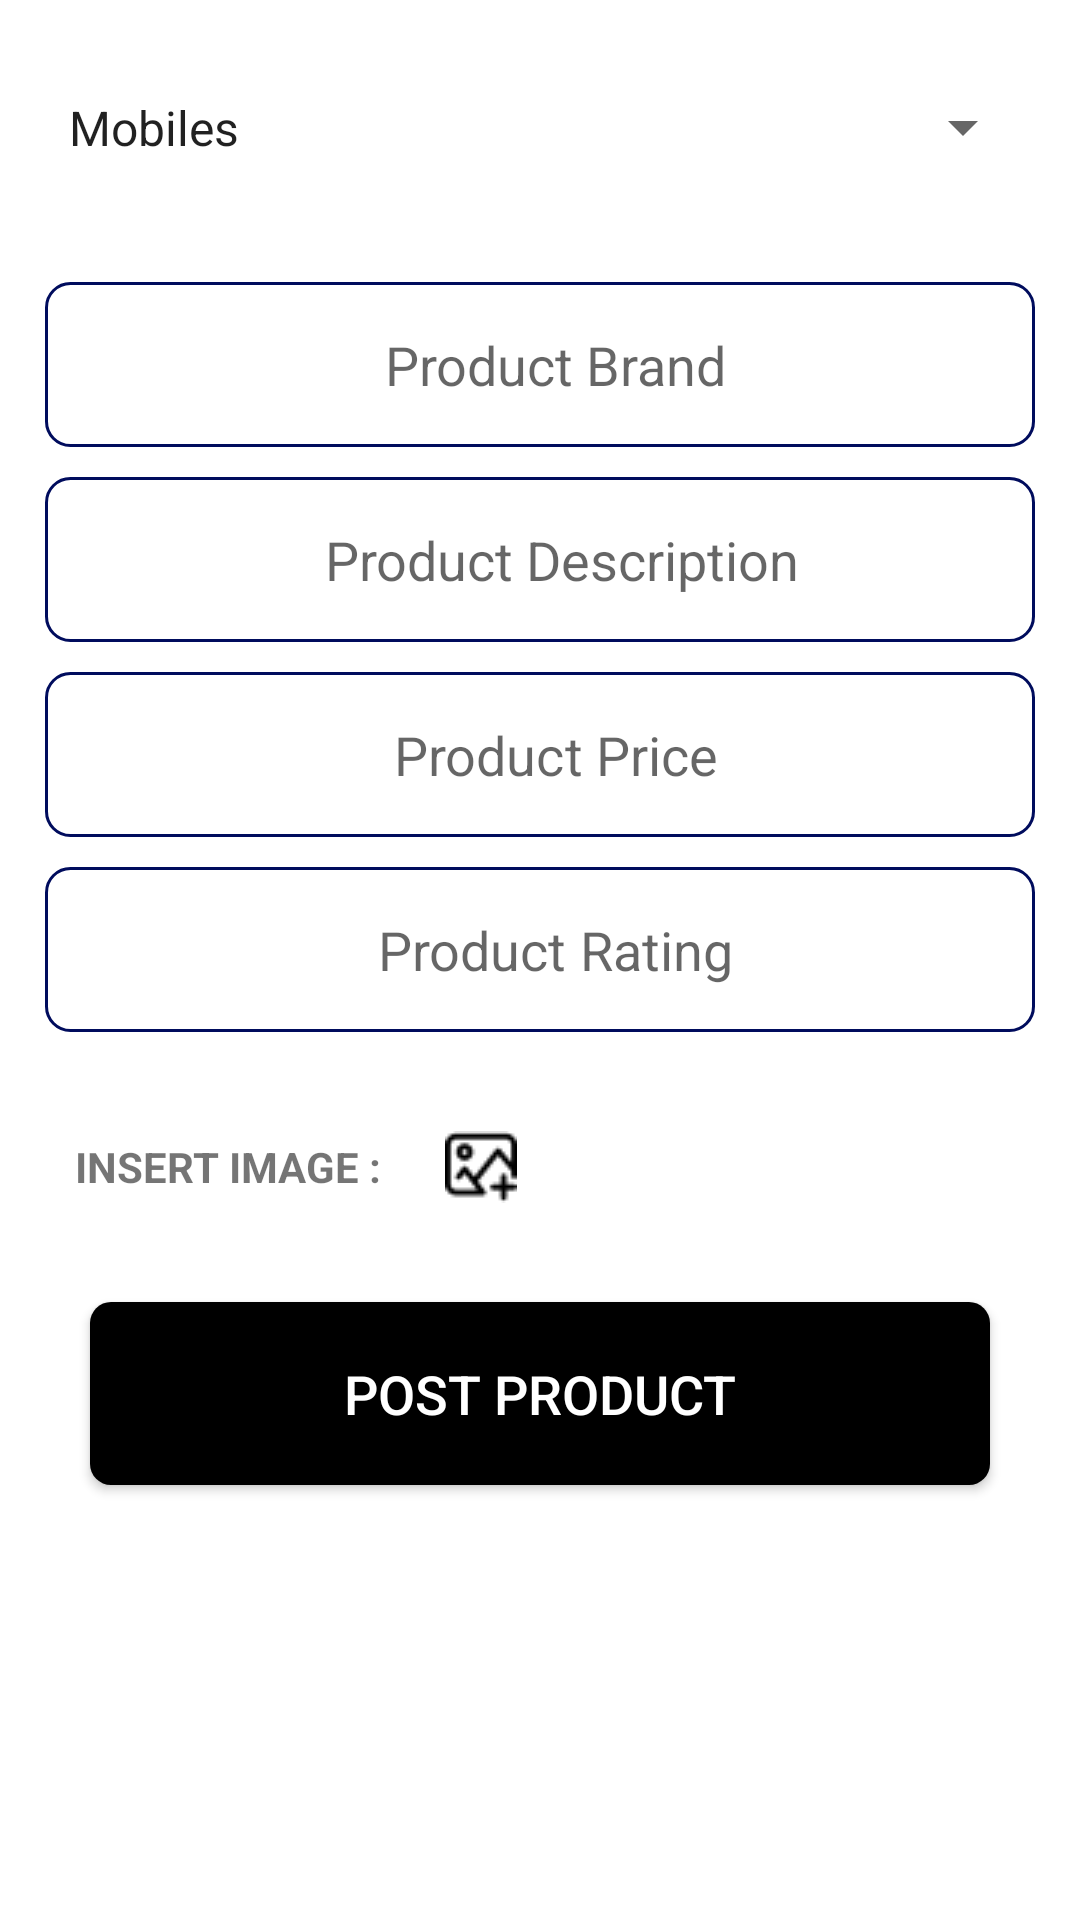

Where icons sit on this 1080x1920 app screen, as (x1, y1, x2, y2):
add: (445, 1131, 517, 1201)
